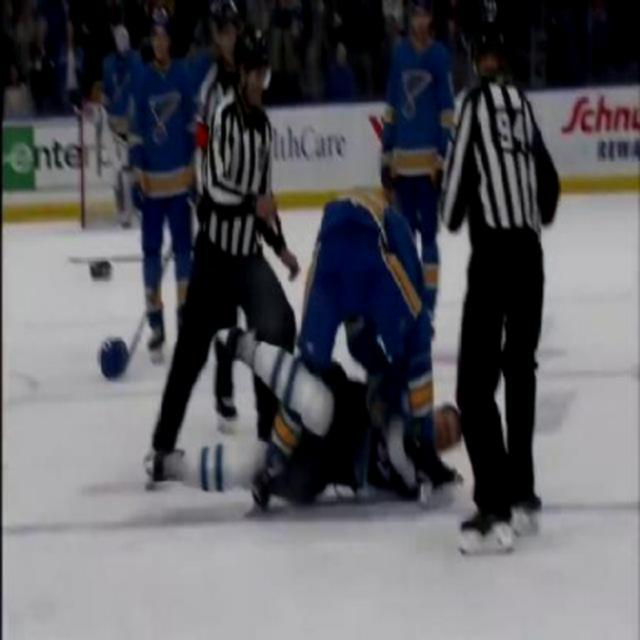fight: (290, 184, 459, 512)
